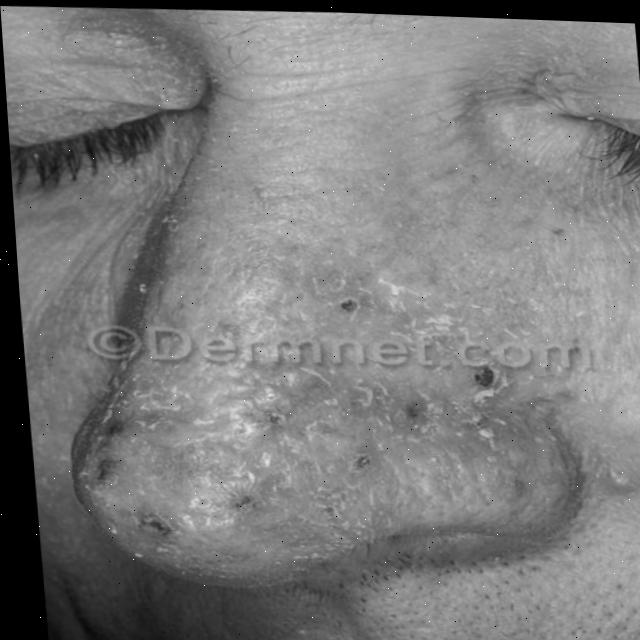Rosacea: (80, 267, 544, 571)
